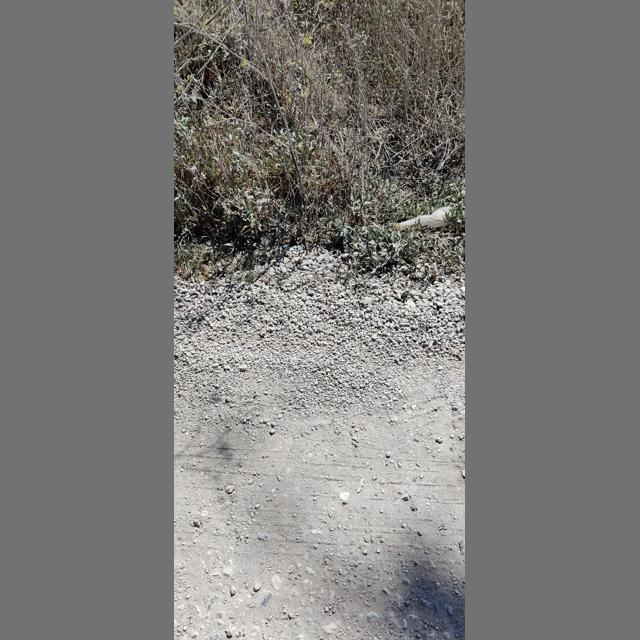litter: (393, 207, 454, 231)
